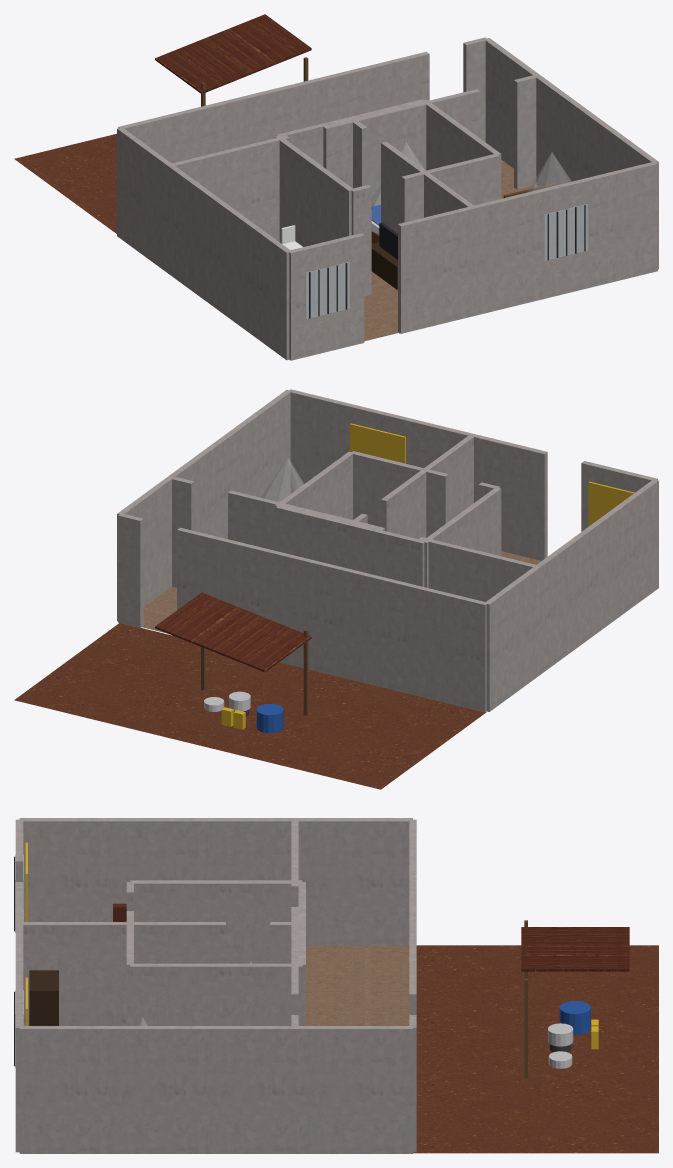
File: home.v1.glb
The picture shows the model from 3 angles, top to bottom: view 1: azimuth 30°, elevation 25°; view 2: azimuth 150°, elevation 25°; view 3: azimuth 270°, elevation 25°; orthographic projection. The views are drawn at different scales.
Visible parts, largest first — view 1: house_walls, room_walls, house_floor, house_kitchen, house_windows, house_parlour, house_net, room_net; view 2: house_walls, house_floor, room_walls, house_kitchen, house_windows, house_net; view 3: house_walls, house_floor, room_walls, house_kitchen, house_wardrobe, house_windows.
Part boxes in pixels (x1,y1,x2,y2): house_walls: (117,37,658,360); room_walls: (275,99,501,296); house_floor: (14,134,538,341); house_kitchen: (155,14,311,106); house_windows: (305,204,588,318); house_parlour: (281,222,397,289); house_net: (527,152,571,192); room_net: (372,142,423,233); house_walls: (117,389,658,712); house_floor: (14,551,541,789); room_walls: (275,451,501,587); house_kitchen: (155,592,311,733); house_windows: (350,423,634,526); house_net: (261,457,303,501); house_walls: (15,818,416,1153); house_floor: (306,945,658,1153); room_walls: (126,880,305,1025); house_kitchen: (521,920,629,1078); house_wardrobe: (29,970,58,1025); house_windows: (14,842,27,1068).
Size of the model in its own units: 10.15 by 3.25 by 13.11.
23 materials, 6 textured.
